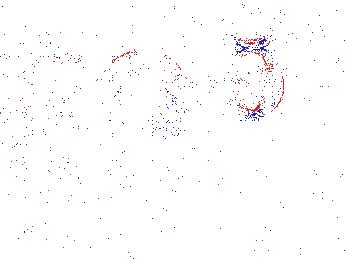moon jellyfish: (99, 49, 191, 129), (1, 42, 90, 105), (1, 71, 60, 151), (230, 47, 284, 119)
